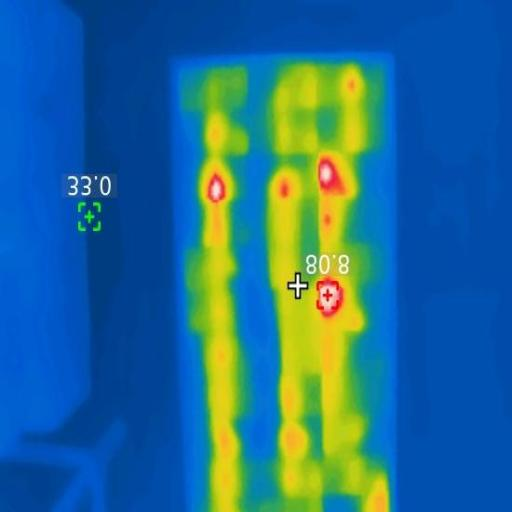hotspot: (317, 276, 341, 320), (318, 156, 338, 196), (207, 178, 227, 202), (281, 181, 289, 199)
